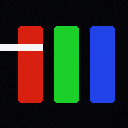3 line_h: (0, 44, 42, 50)
